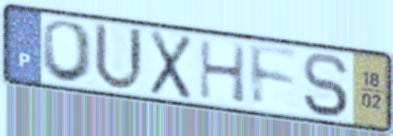F: (246, 41, 301, 110)
H: (197, 37, 249, 106)
O: (39, 18, 97, 86)
S: (301, 51, 351, 120)
U: (91, 20, 147, 95)
X: (147, 27, 195, 103)
